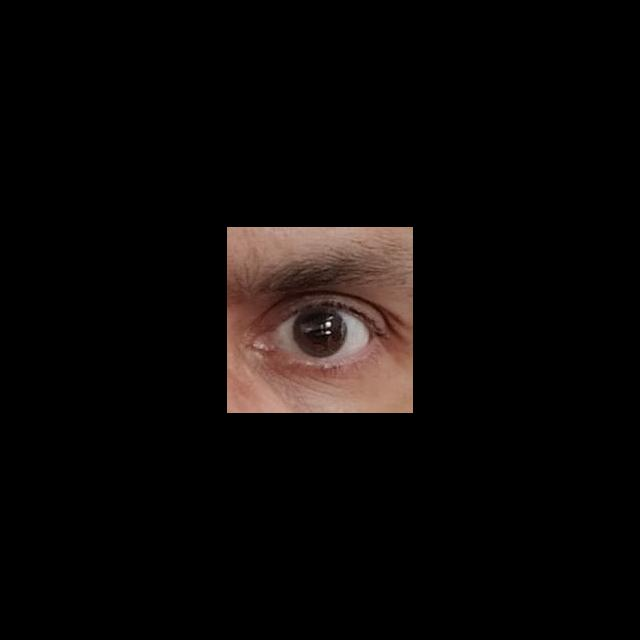eye: (272, 306, 371, 362)
iris: (293, 309, 347, 359)
